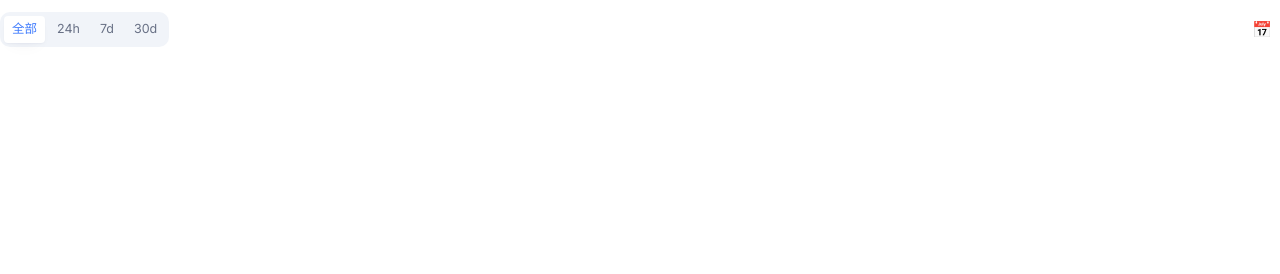
Scenario: TimeRangeFilter › 再次点击日历按钮正常切换关闭弹层（验证 zoneRef 正确关联触发按钮）
This screenshot has width=1280, height=274.
Click the button with test id "time-custom-button". click: (1262, 29)
box: [1248,15,1276,43]
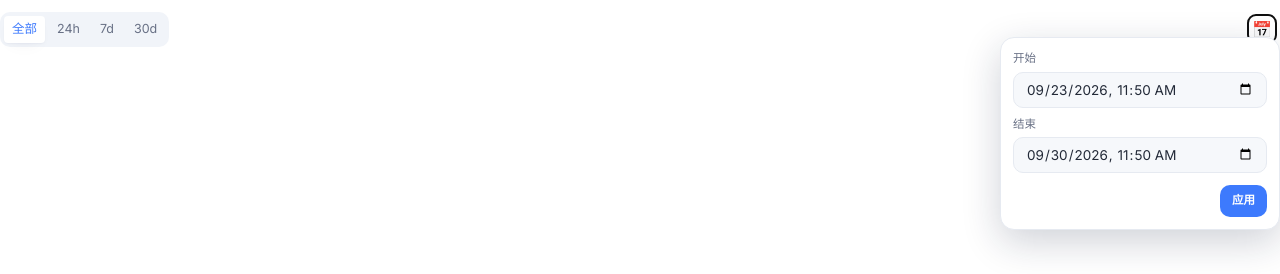
Check: the button "应用" is shown, box [1220,185,1267,217]
Click the button with test id "time-custom-button". click: (1262, 29)
box: [1248,15,1276,43]
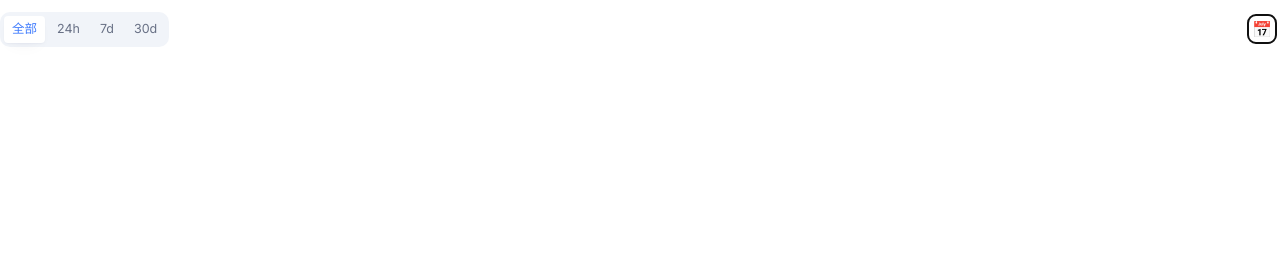
Check: the button "应用" is gone
